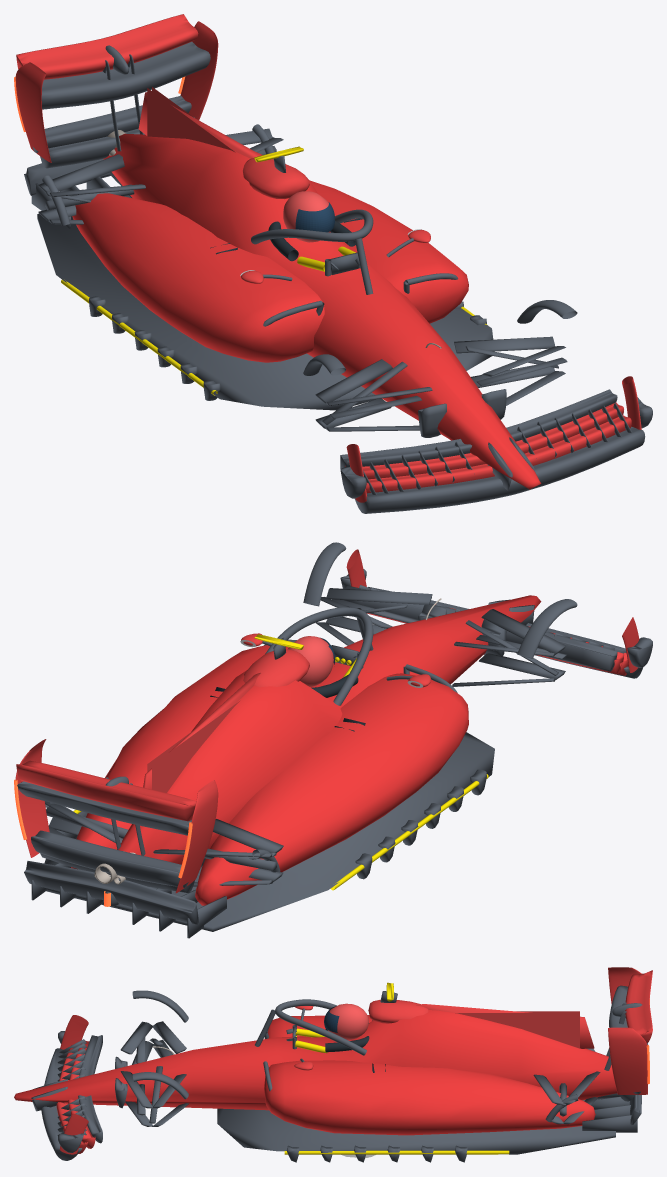
3 renders of one model, top to bottom at view 1: azimuth 30°, elevation 25°; view 2: azimuth 150°, elevation 25°; view 3: azimuth 270°, elevation 25°, orthographic. The views are drawn at different scales.
Parts seen in each view (by area): view 1: Chassis_Monocoque, Sidepod_-1, Venturi_Floor, Sidepod_1, FW_Main, DRS_Airfoil, Rear_Mainplane, FW_Flap_2, FW_Flap_0, FW_Flap_1, Beam_Upper, Shark_Fin_Decal (+15 smaller); view 2: Sidepod_-1, Chassis_Monocoque, Venturi_Floor, Sidepod_1, DRS_Airfoil, Diffuser_Gurney, Beam_Upper, Rear_Mainplane, FW_Flap_2, Rear_Endplate_-1, Shark_Fin_Decal, Halo_Mesh (+15 smaller); view 3: Chassis_Monocoque, Sidepod_1, Venturi_Floor, Rear_Endplate_1, Shark_Fin_Decal, DRS_Airfoil, Halo_Mesh, FW_Flap_2, FW_Main, RollHoop_Airbox, Driver_Helmet, Floor_Skirt_1 (+23 smaller).
Part boxes in pixels (left/top/right/bottom): Chassis_Monocoque: left=103, top=133, right=541, bottom=489; Sidepod_-1: left=72, top=193, right=324, bottom=362; Venturi_Floor: left=37, top=195, right=493, bottom=410; Sidepod_1: left=309, top=180, right=468, bottom=323; FW_Main: left=355, top=426, right=645, bottom=513; DRS_Airfoil: left=16, top=14, right=198, bottom=79; Rear_Mainplane: left=41, top=41, right=210, bottom=109; FW_Flap_2: left=340, top=389, right=617, bottom=468; FW_Flap_0: left=366, top=415, right=631, bottom=493; FW_Flap_1: left=345, top=402, right=623, bottom=479; Beam_Upper: left=33, top=96, right=191, bottom=152; Shark_Fin_Decal: left=147, top=87, right=235, bottom=152; Sidepod_-1: left=195, top=673, right=468, bottom=905; Chassis_Monocoque: left=118, top=595, right=541, bottom=864; Venturi_Floor: left=44, top=732, right=494, bottom=931; Sidepod_1: left=71, top=645, right=288, bottom=869; DRS_Airfoil: left=16, top=760, right=196, bottom=821; Diffuser_Gurney: left=24, top=861, right=198, bottom=924; Beam_Upper: left=31, top=830, right=188, bottom=887; Rear_Mainplane: left=17, top=781, right=191, bottom=835; FW_Flap_2: left=344, top=586, right=617, bottom=671; Rear_Endplate_-1: left=175, top=780, right=218, bottom=893; Shark_Fin_Decal: left=147, top=700, right=240, bottom=792; Halo_Mesh: left=265, top=607, right=373, bottom=705; Chassis_Monocoque: left=14, top=1010, right=617, bottom=1110; Sidepod_1: left=264, top=1060, right=595, bottom=1135; Venturi_Floor: left=217, top=1099, right=615, bottom=1154; Rear_Endplate_1: left=608, top=1027, right=647, bottom=1094; Shark_Fin_Decal: left=455, top=1011, right=579, bottom=1048; DRS_Airfoil: left=625, top=970, right=652, bottom=1042; Halo_Mesh: left=255, top=999, right=366, bottom=1055; FW_Flap_2: left=78, top=1035, right=102, bottom=1143; FW_Main: left=41, top=1048, right=82, bottom=1160; RollHoop_Airbox: left=368, top=999, right=428, bottom=1023; Driver_Helmet: left=328, top=1003, right=368, bottom=1040; Floor_Skirt_1: left=284, top=1150, right=509, bottom=1154.
Size of the model in its own units: 2.09 by 1.46 by 5.32.
